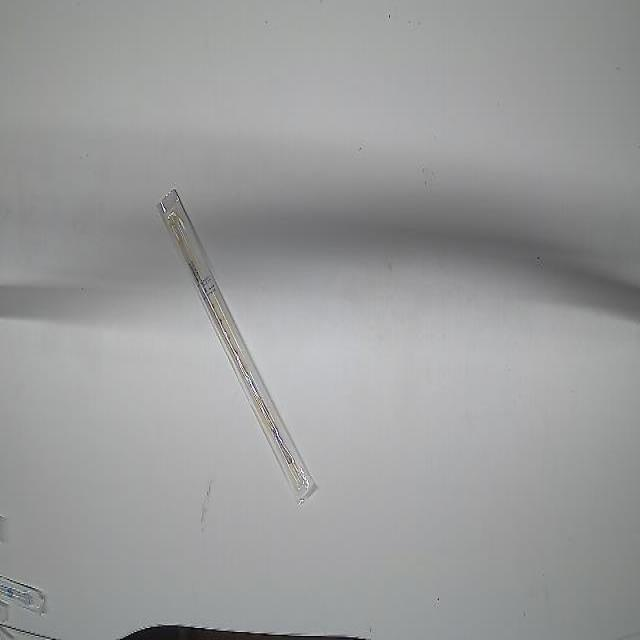Serelogical Pipet 1 mL - Sealed: (152, 180, 325, 510)
